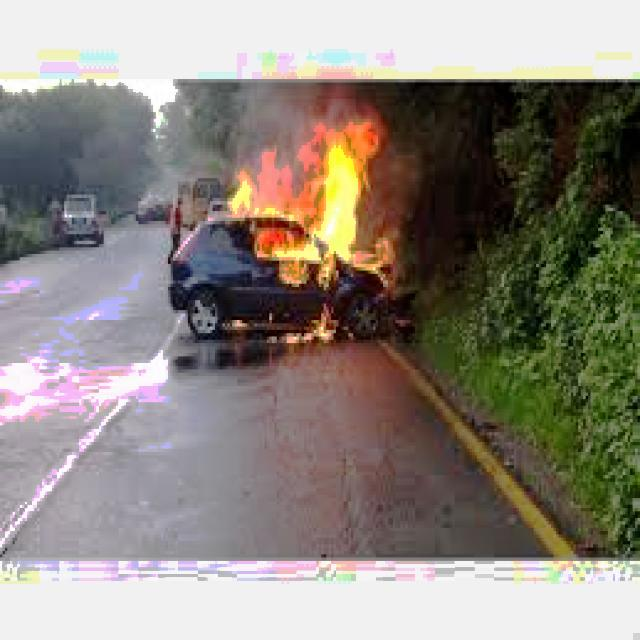api: (224, 110, 402, 304)
